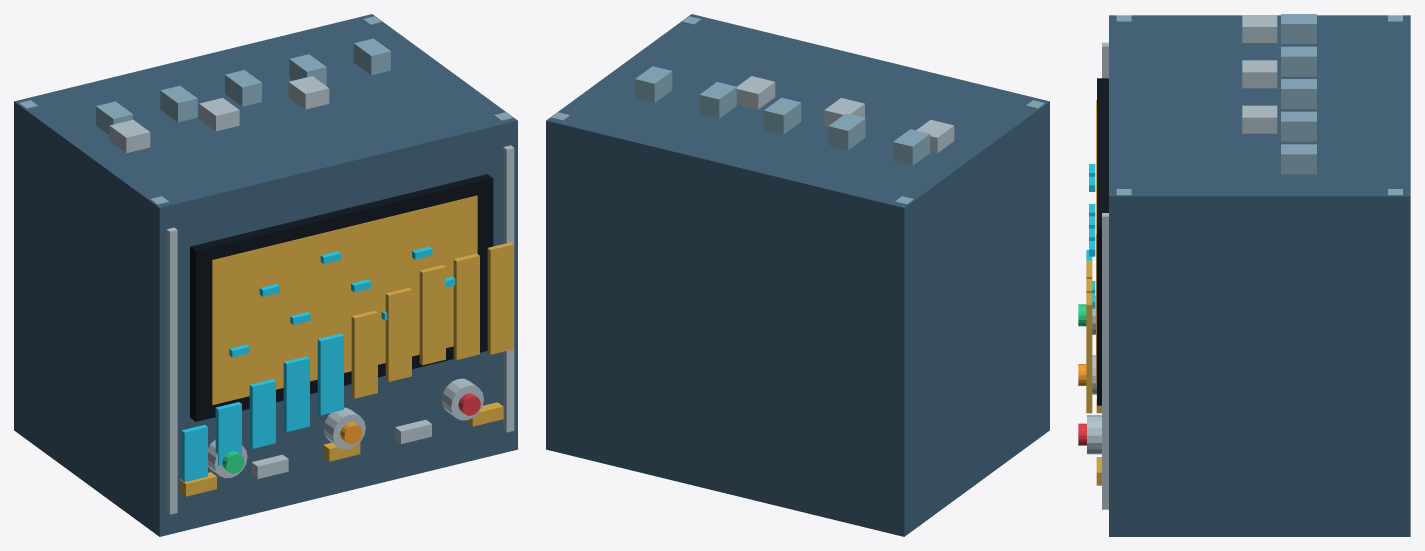
The model's file is 42_L72_GrowthPerCycleAnalyzer.fbx.
3 renders of one model, left to right at view 1: azimuth 30°, elevation 25°; view 2: azimuth 150°, elevation 25°; view 3: azimuth 270°, elevation 25°, orthographic. The views are drawn at different scales.
Visible parts, largest first — view 1: GrowthPerCycleAnalyzer; view 2: GrowthPerCycleAnalyzer; view 3: GrowthPerCycleAnalyzer.
Part boxes in pixels (left/top/right/bottom): GrowthPerCycleAnalyzer: left=14, top=14, right=517, bottom=536; GrowthPerCycleAnalyzer: left=546, top=14, right=1049, bottom=536; GrowthPerCycleAnalyzer: left=1078, top=14, right=1410, bottom=536.
Size of the model in its own units: 98 by 91.04 by 76.01.
